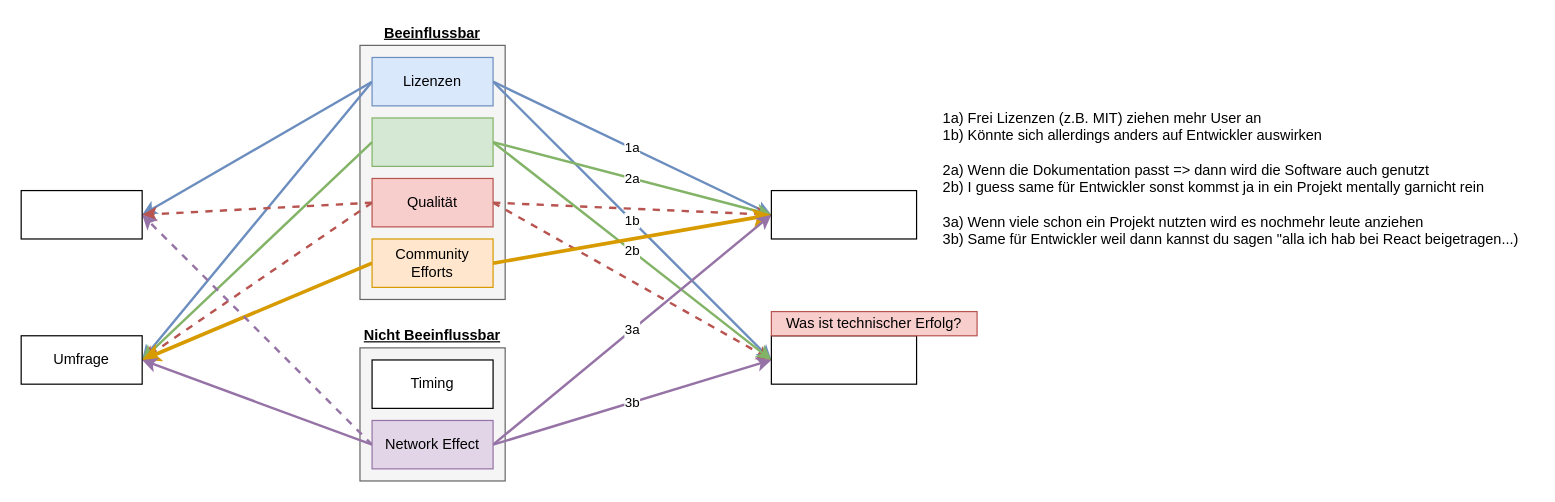
This 1555x502 diagram has some shape labels left out. Each missing label, with the box of its shape:
Crawler: (20, 189, 142, 239)
Dokumentation: (371, 117, 493, 166)
Markterfolg: (770, 189, 917, 239)
Technischen Erfolg: (770, 335, 917, 384)
